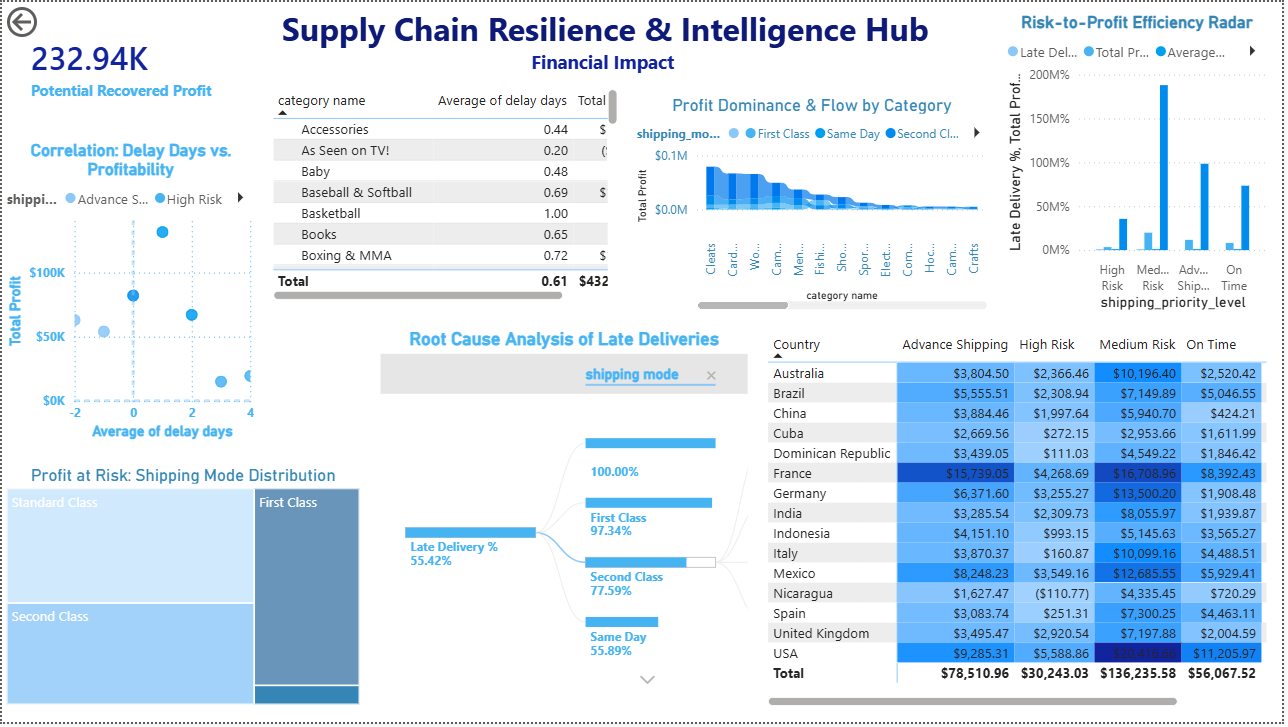

The dashboard page shown, as its layout file describes it:
{"tool":"powerbi","page":{"name":"Financial Impact","canvas":[1280,720],"ordinal":1},"visuals":[{"type":"scatterChart","title":"Correlation: Delay Days vs. Profitability","fields":{"X":["Master_SupplyChain_Project (2).delay_days"],"Y":["Master_SupplyChain_Project (2).Total Profit"],"Series":["Master_SupplyChain_Project (2).shipping_priority_level"]},"box":[0,137.5,257.5,305],"z":0},{"type":"cardVisual","fields":{"Data":["Master_SupplyChain_Project (2).Saved Profit"]},"box":[0,10,257.5,112.5],"z":1000},{"type":"decompositionTreeVisual","title":"Root Cause Analysis of Late Deliveries","fields":{"Analyze":["Master_SupplyChain_Project (2).Late Delivery %"],"ExplainBy":["Master_SupplyChain_Project (2).shipping_mode","Master_SupplyChain_Project (2).order_country_en"]},"box":[374.3,325.7,377.1,382.9],"z":2000},{"type":"pivotTable","fields":{"Columns":["Master_SupplyChain_Project (2).shipping_priority_level"],"Values":["Master_SupplyChain_Project (2).Total Profit"],"Rows":["Master_SupplyChain_Project (2).Country"]},"box":[761.4,325.7,508.6,382.9],"z":3000},{"type":"textbox","box":[265,0,676.7,83.3],"z":4000},{"type":"treemap","title":"Profit at Risk: Shipping Mode Distribution","fields":{"Group":["Master_SupplyChain_Project (2).shipping_mode","Master_SupplyChain_Project (2).Country"],"Values":["Master_SupplyChain_Project (2).Saved Profit"]},"box":[0,462.5,362.5,245],"z":5000},{"type":"tableEx","fields":{"Values":["Master_SupplyChain_Project (2).category_name","Avg(Master_SupplyChain_Project (2).delay_days)","Master_SupplyChain_Project (2).Total Profit"]},"box":[265,82.5,355,220],"z":6000},{"type":"clusteredColumnChart","title":"Risk-to-Profit Efficiency ","fields":{"Y":["Master_SupplyChain_Project (2).Late Delivery %","Master_SupplyChain_Project (2).Total Profit","Avg(Master_SupplyChain_Project (2).resilience_score)","Master_SupplyChain_Project (2).Total Sales"],"Category":["Master_SupplyChain_Project (2).shipping_priority_level"]},"box":[1000,10,270,302.9],"z":7000},{"type":"ribbonChart","title":"Profit Dominance & Flow by Category","fields":{"Category":["Master_SupplyChain_Project (2).category_name"],"Series":["Master_SupplyChain_Project (2).shipping_mode"],"Y":["Master_SupplyChain_Project (2).Total Profit"]},"box":[630,92.9,360,220],"z":8000},{"type":"actionButton","box":[0,0,100,40],"z":13000}]}

Visuals, with their boxes in screenshot pixels (x1, y1, x2, y2), scaled from the page's 1280x720 canvas onto the 1288x727 screenshot:
"Correlation: Delay Days vs. Profitability" scatterChart: <region>0, 139, 259, 447</region>
cardVisual - Master_SupplyChain_Project (2).Saved Profit: <region>0, 10, 259, 124</region>
"Root Cause Analysis of Late Deliveries" decompositionTreeVisual: <region>377, 329, 756, 715</region>
pivotTable - Master_SupplyChain_Project (2).shipping_priority_level x Master_SupplyChain_Project (2).Total Profit: <region>766, 329, 1278, 715</region>
textbox: <region>267, 0, 948, 84</region>
"Profit at Risk: Shipping Mode Distribution" treemap: <region>0, 467, 365, 714</region>
tableEx - Master_SupplyChain_Project (2).category_name x Avg(Master_SupplyChain_Project (2).delay_days): <region>267, 83, 624, 305</region>
"Risk-to-Profit Efficiency " clusteredColumnChart: <region>1006, 10, 1278, 316</region>
"Profit Dominance & Flow by Category" ribbonChart: <region>634, 94, 996, 316</region>
actionButton: <region>0, 0, 101, 40</region>
